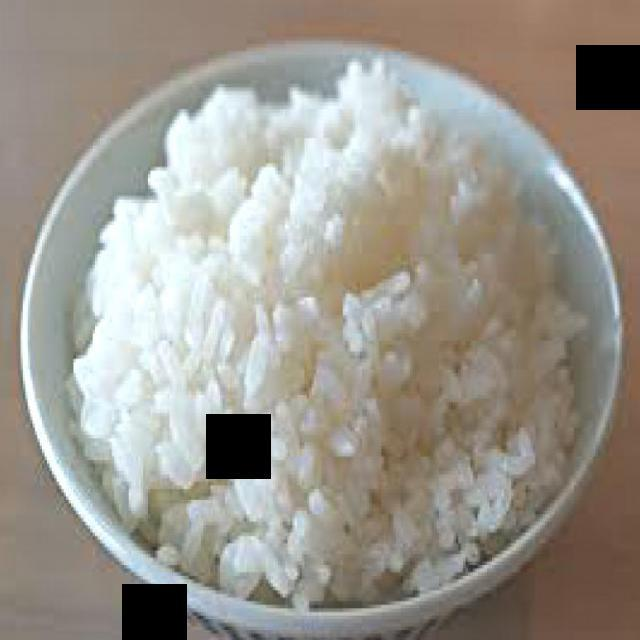Chicken -Chicken Inasal-: (81, 59, 575, 604)
